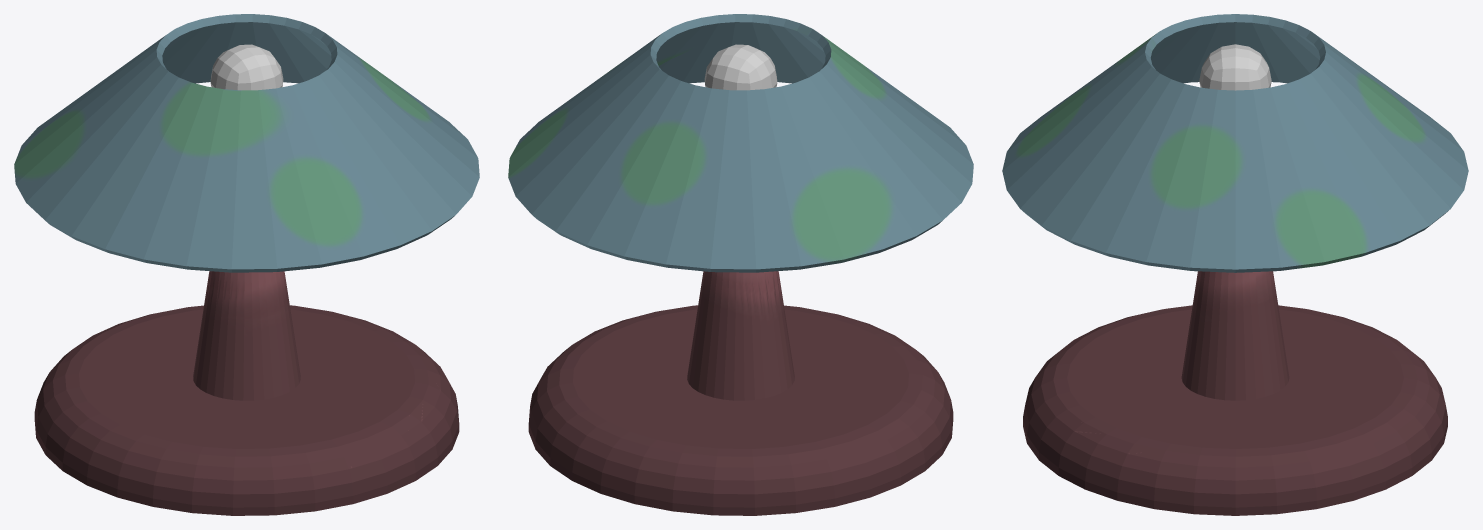
The model's file is RoomLamp.fbx.
The picture shows the model from 3 angles, left to right: view 1: azimuth 30°, elevation 25°; view 2: azimuth 150°, elevation 25°; view 3: azimuth 270°, elevation 25°; orthographic projection.
Visible parts, largest first — view 1: RoomLamp1; view 2: RoomLamp1; view 3: RoomLamp1.
Part boxes in pixels (x1,y1,x2,y2): RoomLamp1: (14,14,479,515); RoomLamp1: (508,14,973,515); RoomLamp1: (1002,14,1468,515).
Bounding box in the file's own units: 2.19 × 2.19 × 1.96.
